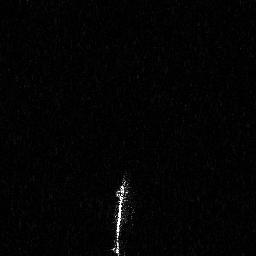ship: (109, 169, 134, 256)
